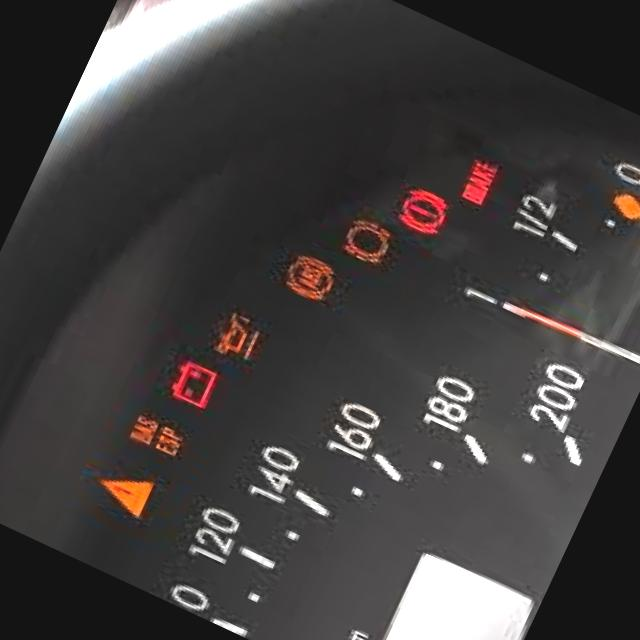kontrolka: (107, 392, 217, 478), (80, 456, 164, 534), (154, 346, 230, 419), (388, 178, 462, 245), (204, 302, 274, 372), (274, 246, 344, 310), (332, 208, 402, 272), (454, 146, 512, 213), (175, 486, 179, 491)
